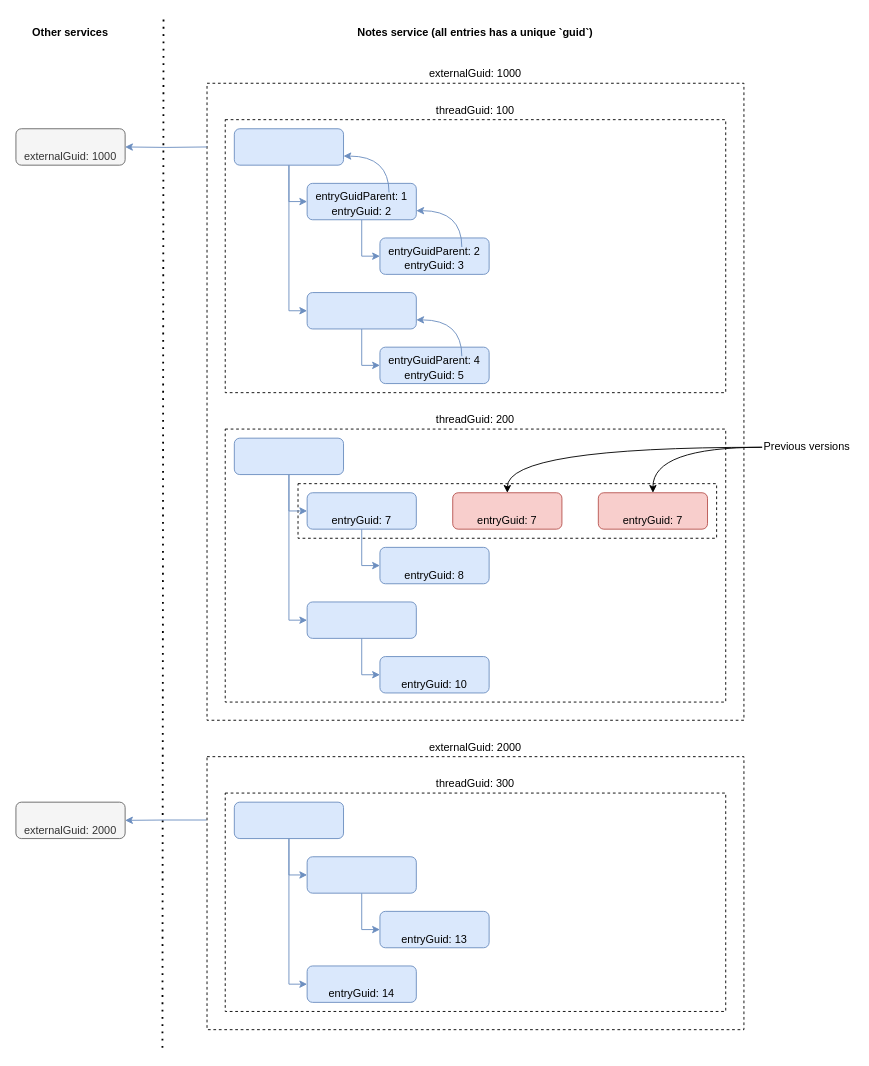
Image size: 869x1066. Some labels were removed from this diagram. The shapes that lost their labels are listed below. From the top down, each one's centre as x and y in pixels, then its label:
point (288, 146): entryGuid: 1
point (361, 310): entryGuid: 4
point (288, 456): entryGuid: 6
point (361, 619): entryGuid: 9
point (288, 820): entryGuid: 11
point (361, 874): entryGuid: 12
